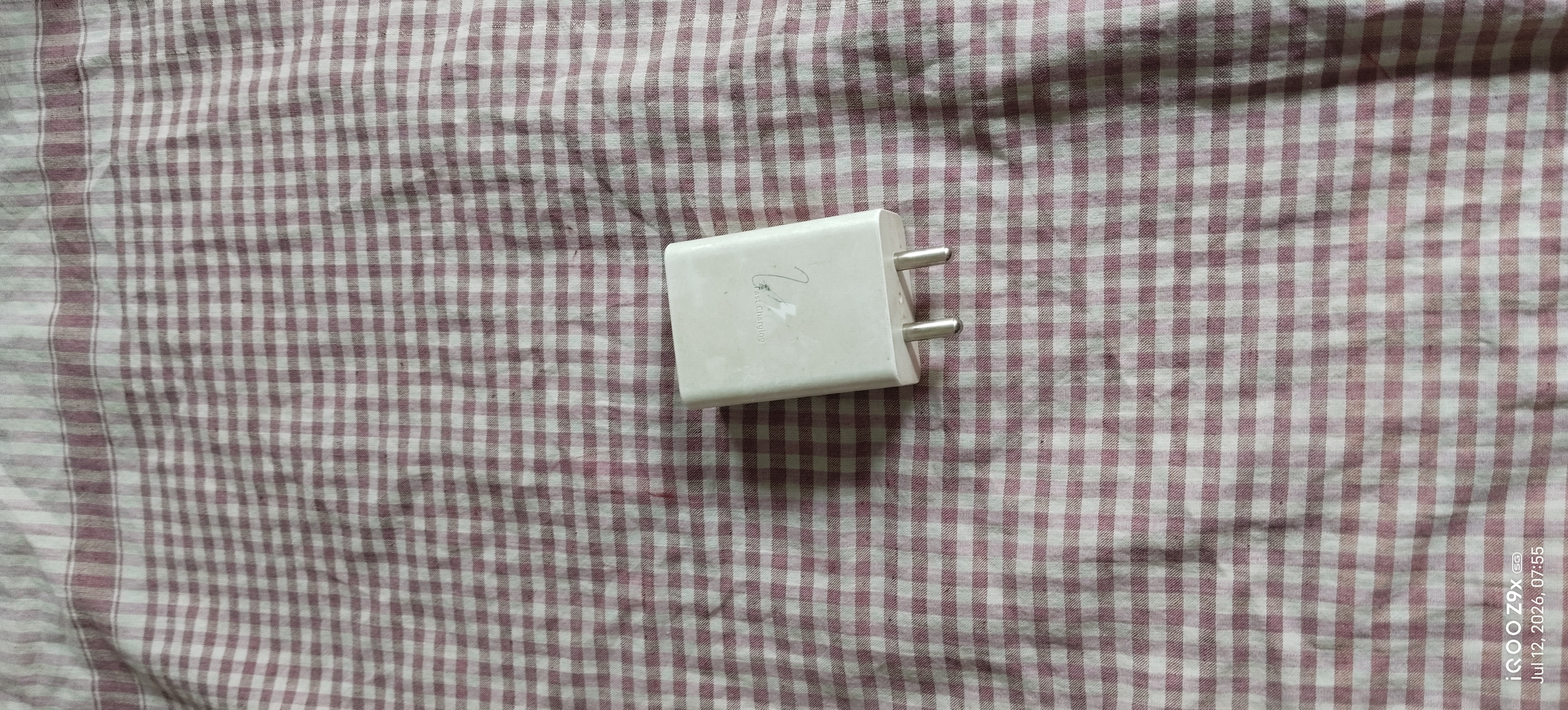charger: (623, 199, 978, 436)
